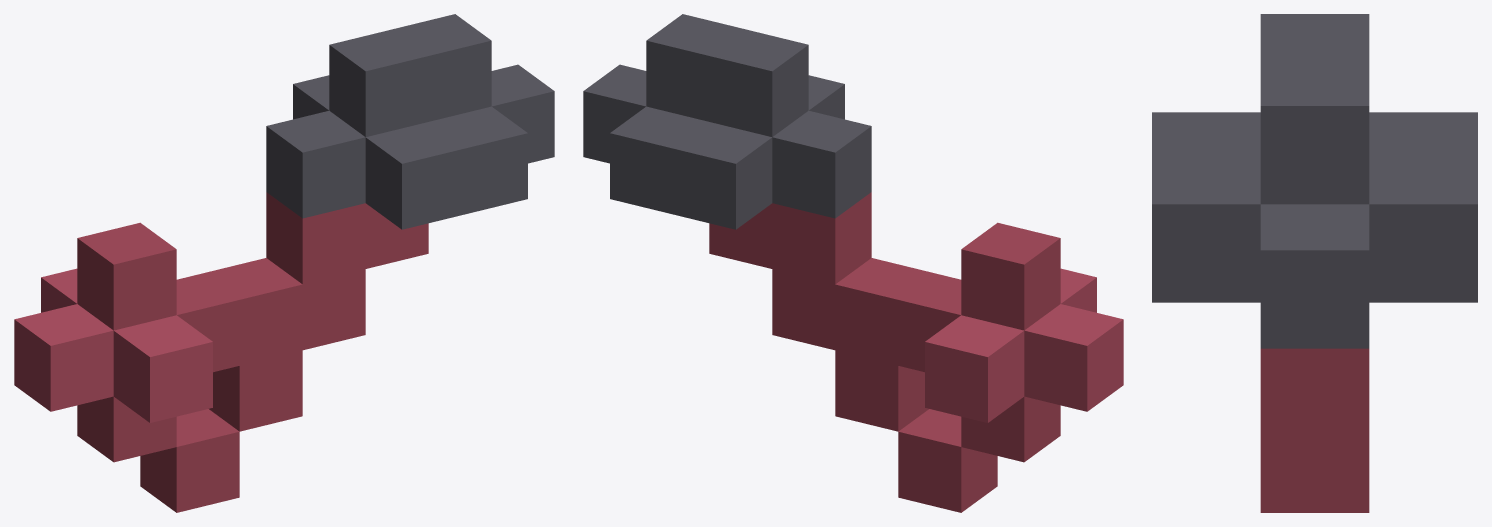
Rendered from rat-4.obj.
3 views of the same model, side by side, from view 1: azimuth 30°, elevation 25°; view 2: azimuth 150°, elevation 25°; view 3: azimuth 270°, elevation 25° (orthographic). The views are drawn at different scales.
Size of the model in its own units: 0.8 by 0.6 by 0.3.
1 material, 1 textured.
